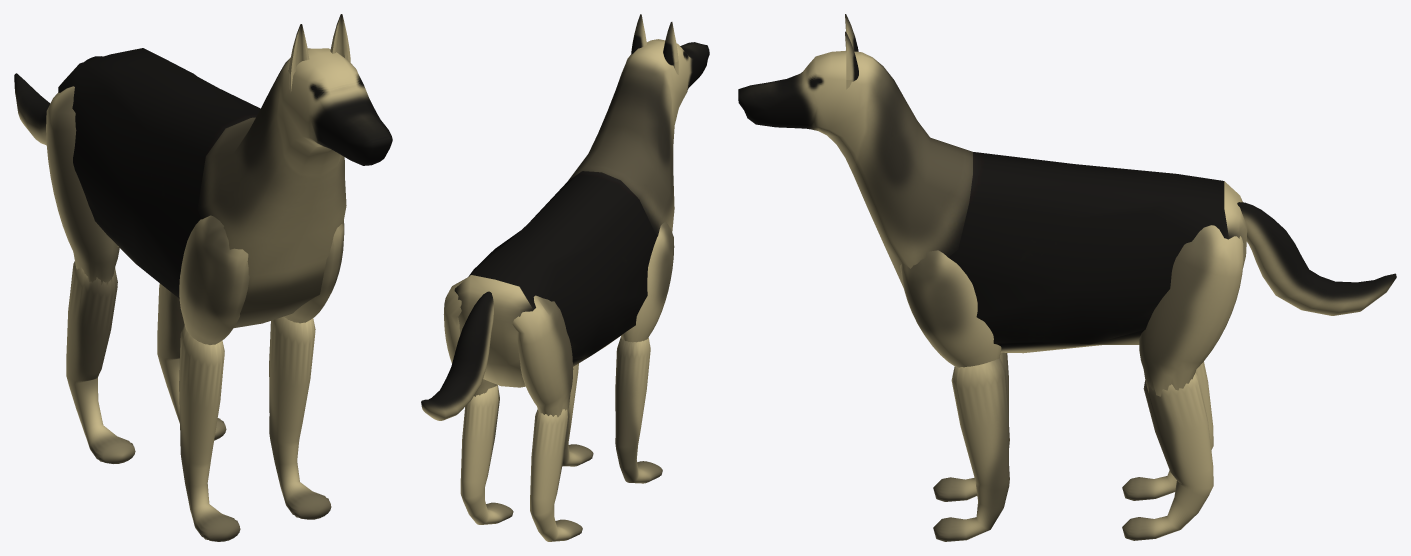
The model's file is dogFBX.fbx.
The picture shows the model from 3 angles, left to right: view 1: azimuth 30°, elevation 25°; view 2: azimuth 150°, elevation 25°; view 3: azimuth 270°, elevation 25°; orthographic projection. The views are drawn at different scales.
Parts seen in each view (by area): view 1: pCube2; view 2: pCube2; view 3: pCube2.
Boxes of the visible parts, bbox=[...] form: pCube2: bbox=[14, 14, 392, 541]; pCube2: bbox=[421, 14, 709, 541]; pCube2: bbox=[738, 14, 1396, 541].
Bounding box in the file's own units: 1.69 × 6.19 × 7.46.
1 material, 1 textured.
